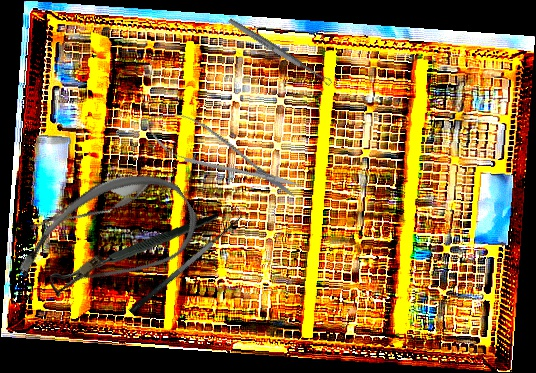Cannula: (4, 149, 211, 333)
Hook Surgical: (48, 195, 219, 315)
Micro Scissor: (132, 98, 310, 212), (24, 163, 159, 244)
Spatula Surgical: (120, 206, 249, 315)
Surgical Spoon: (226, 16, 334, 88)
